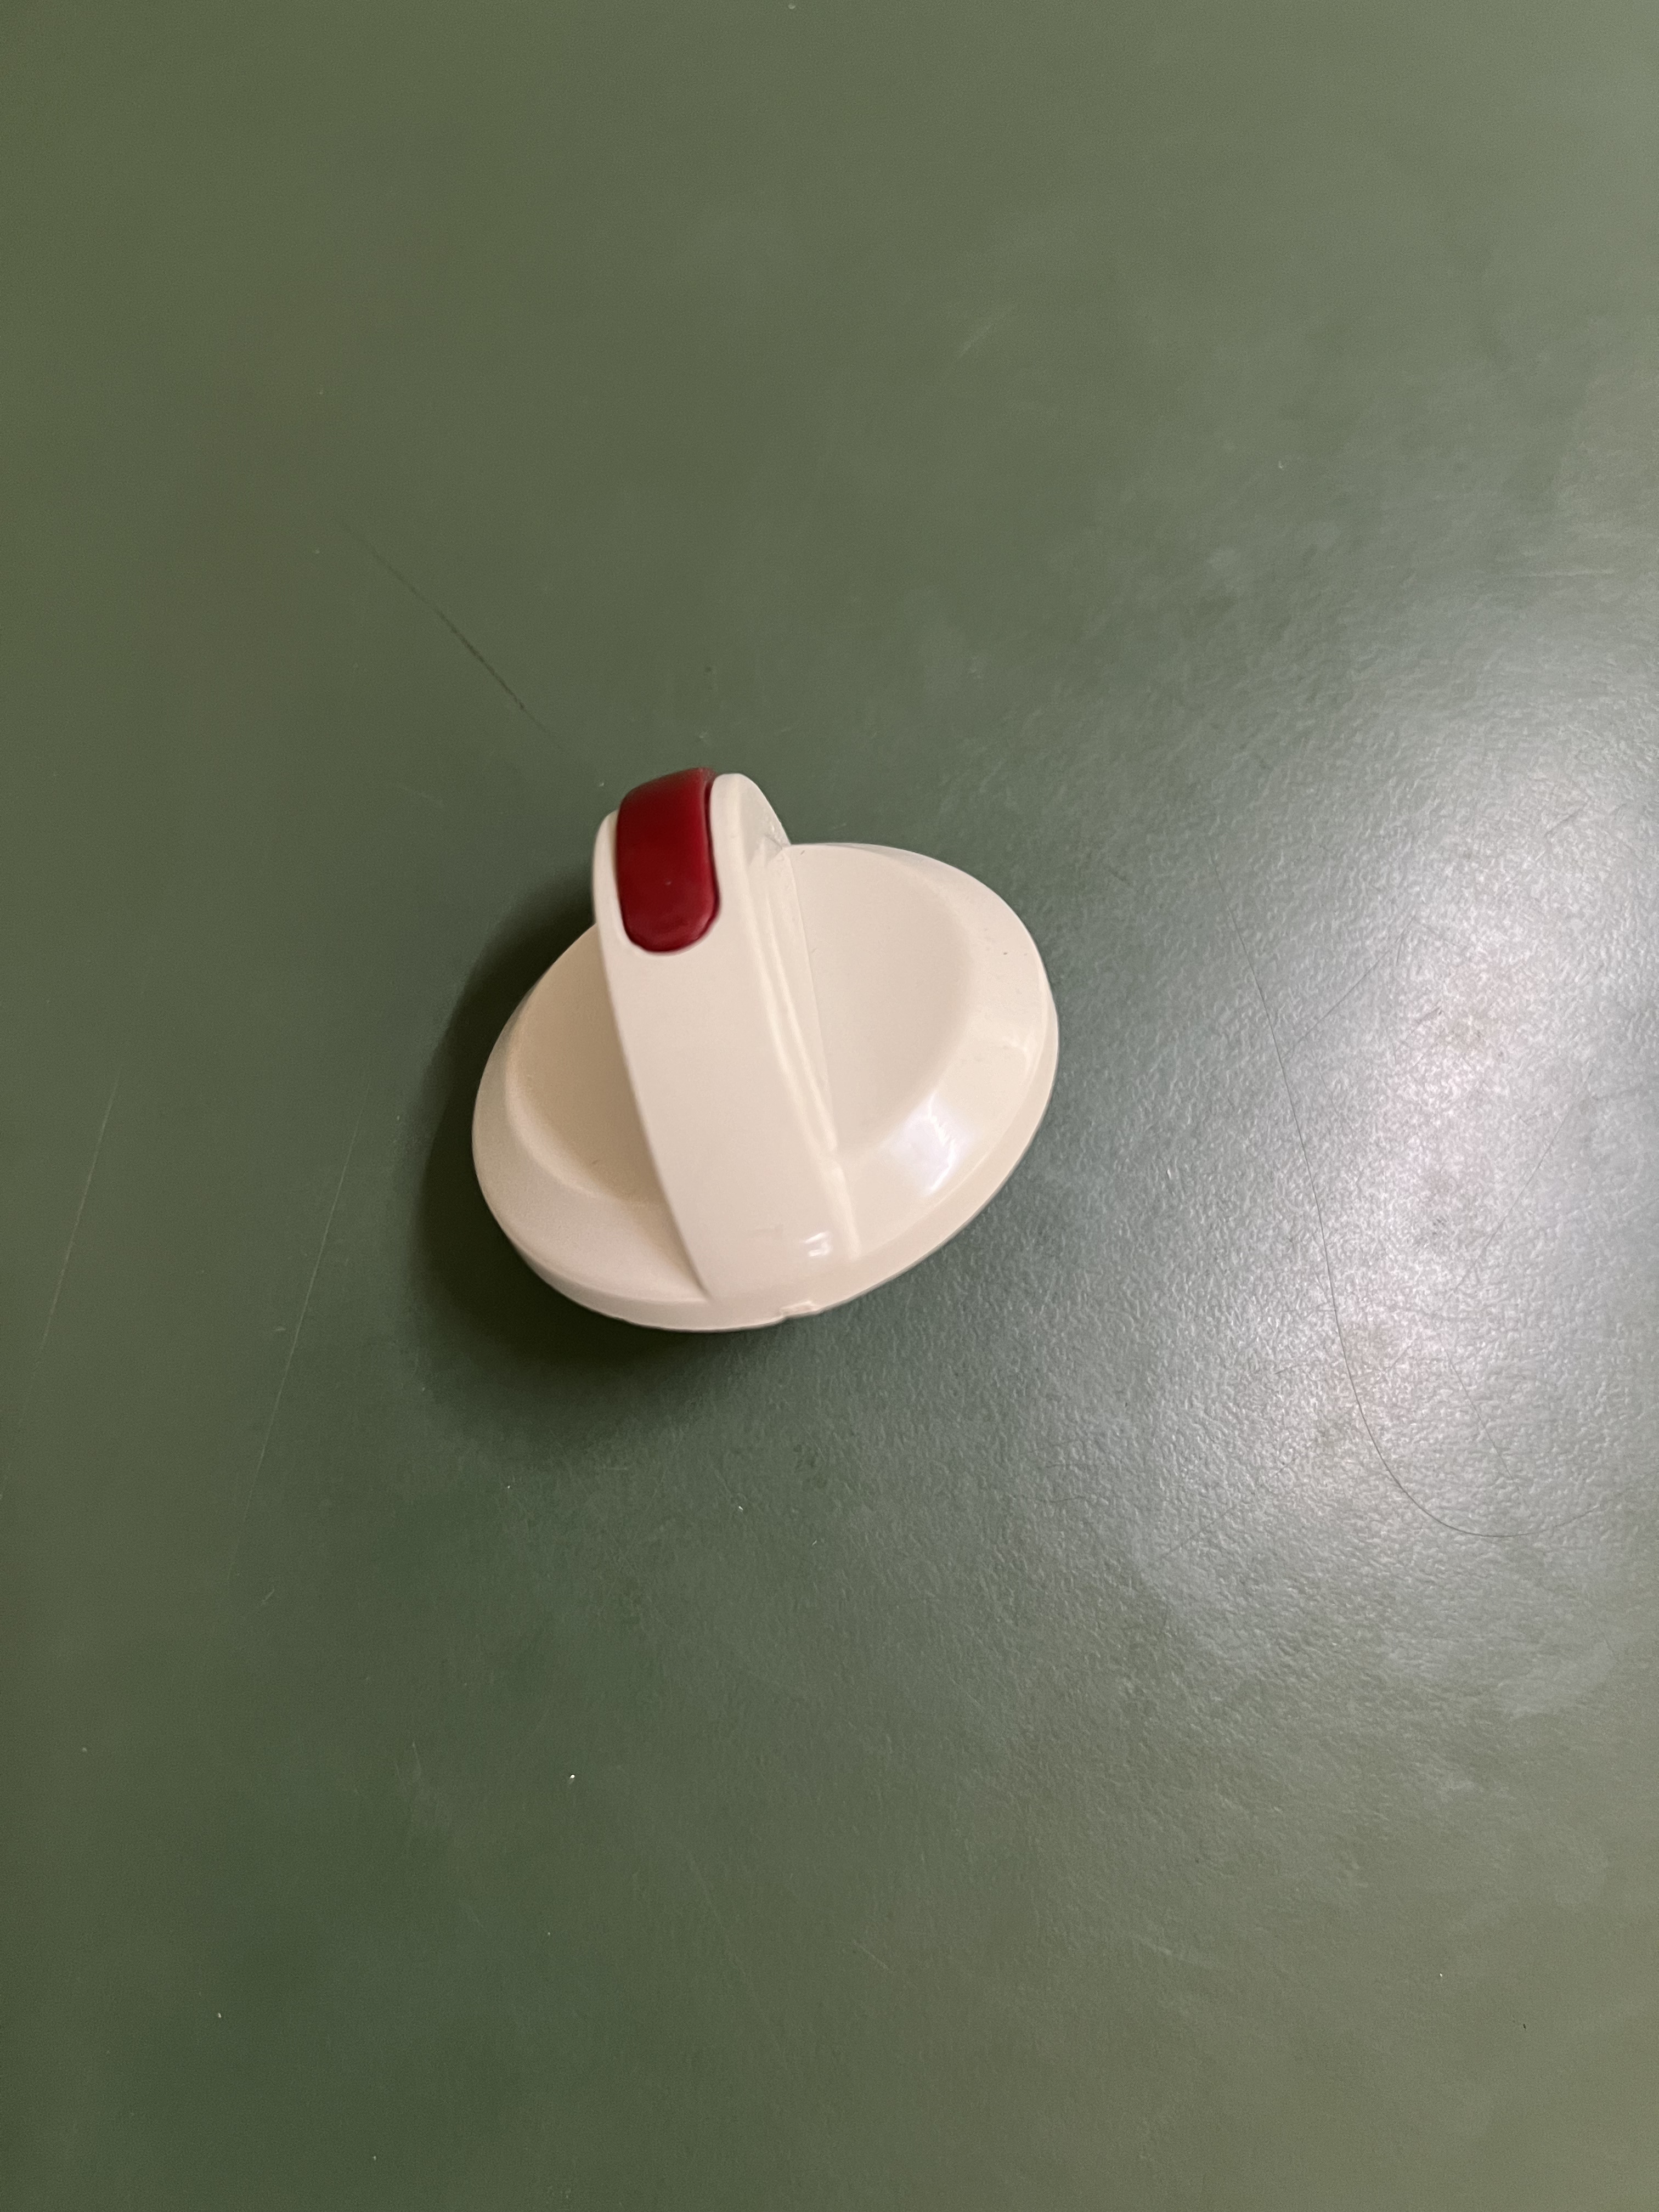regulator: (430, 745, 1077, 1317)
